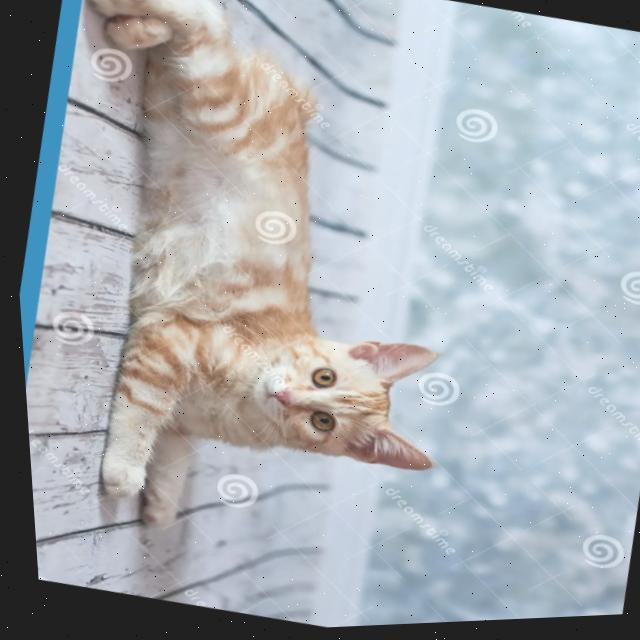American Bobtail: (0, 0, 526, 591)
